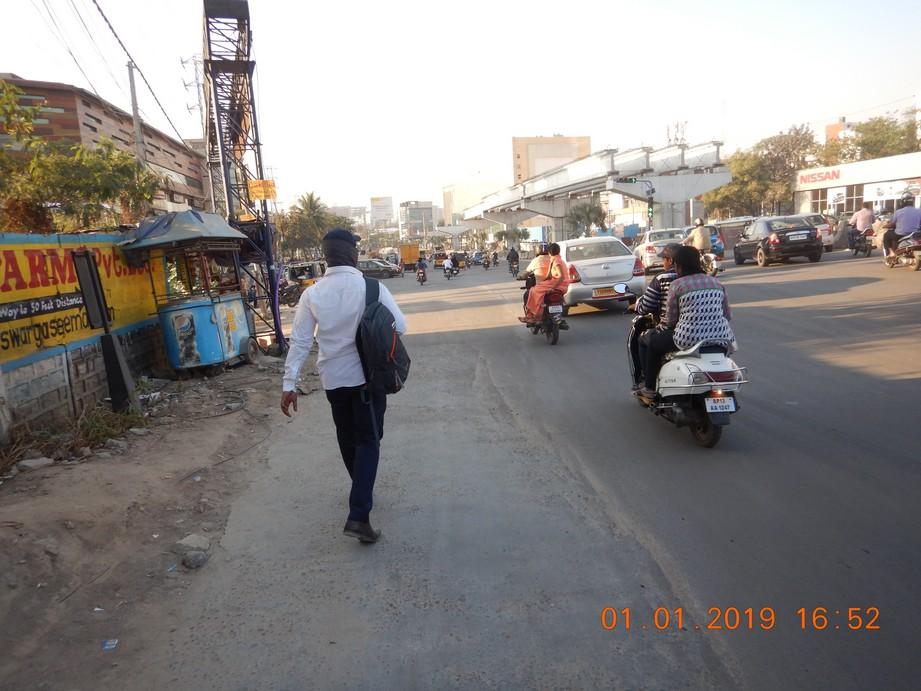plate: (703, 395, 737, 412)
